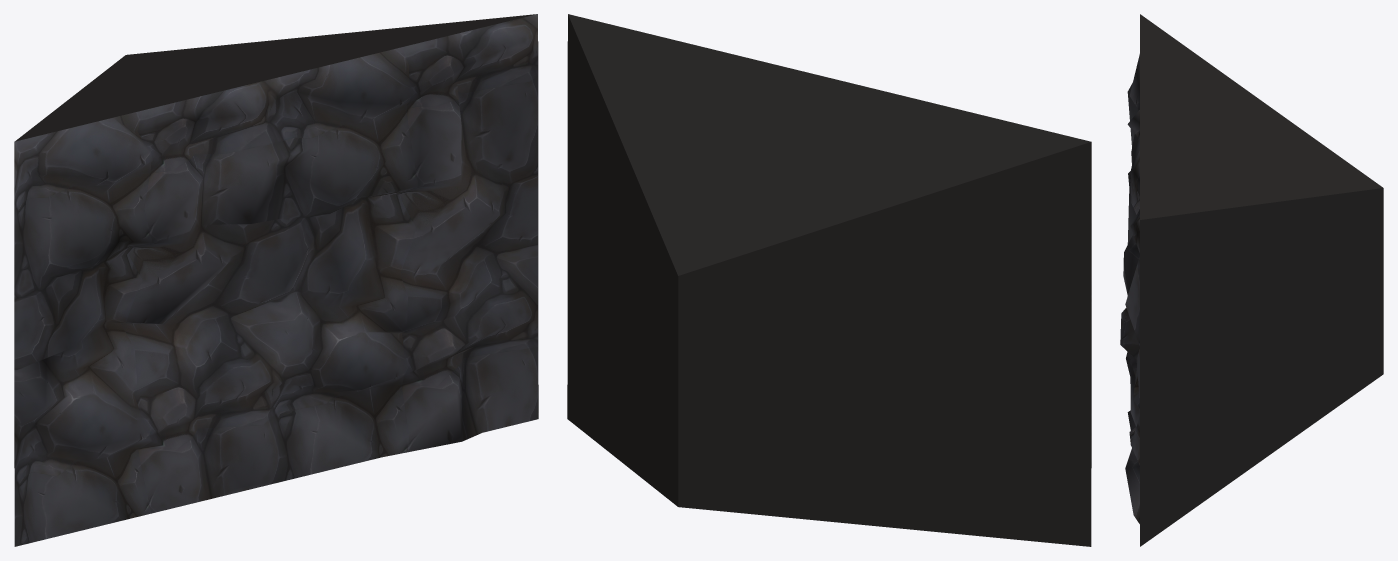
File: Wall_stone.003.fbx
3 renders of one model, left to right at view 1: azimuth 30°, elevation 25°; view 2: azimuth 150°, elevation 25°; view 3: azimuth 270°, elevation 25°, orthographic. The views are drawn at different scales.
Visible parts, largest first — view 1: Wall_stone.003; view 2: Wall_stone.003; view 3: Wall_stone.003.
Boxes of the visible parts, box(x1,y1,x2,y2) form: Wall_stone.003: box(14, 14, 538, 546); Wall_stone.003: box(567, 14, 1091, 546); Wall_stone.003: box(1120, 14, 1383, 546).
Bounding box in the file's own units: 400 × 296 × 216.
